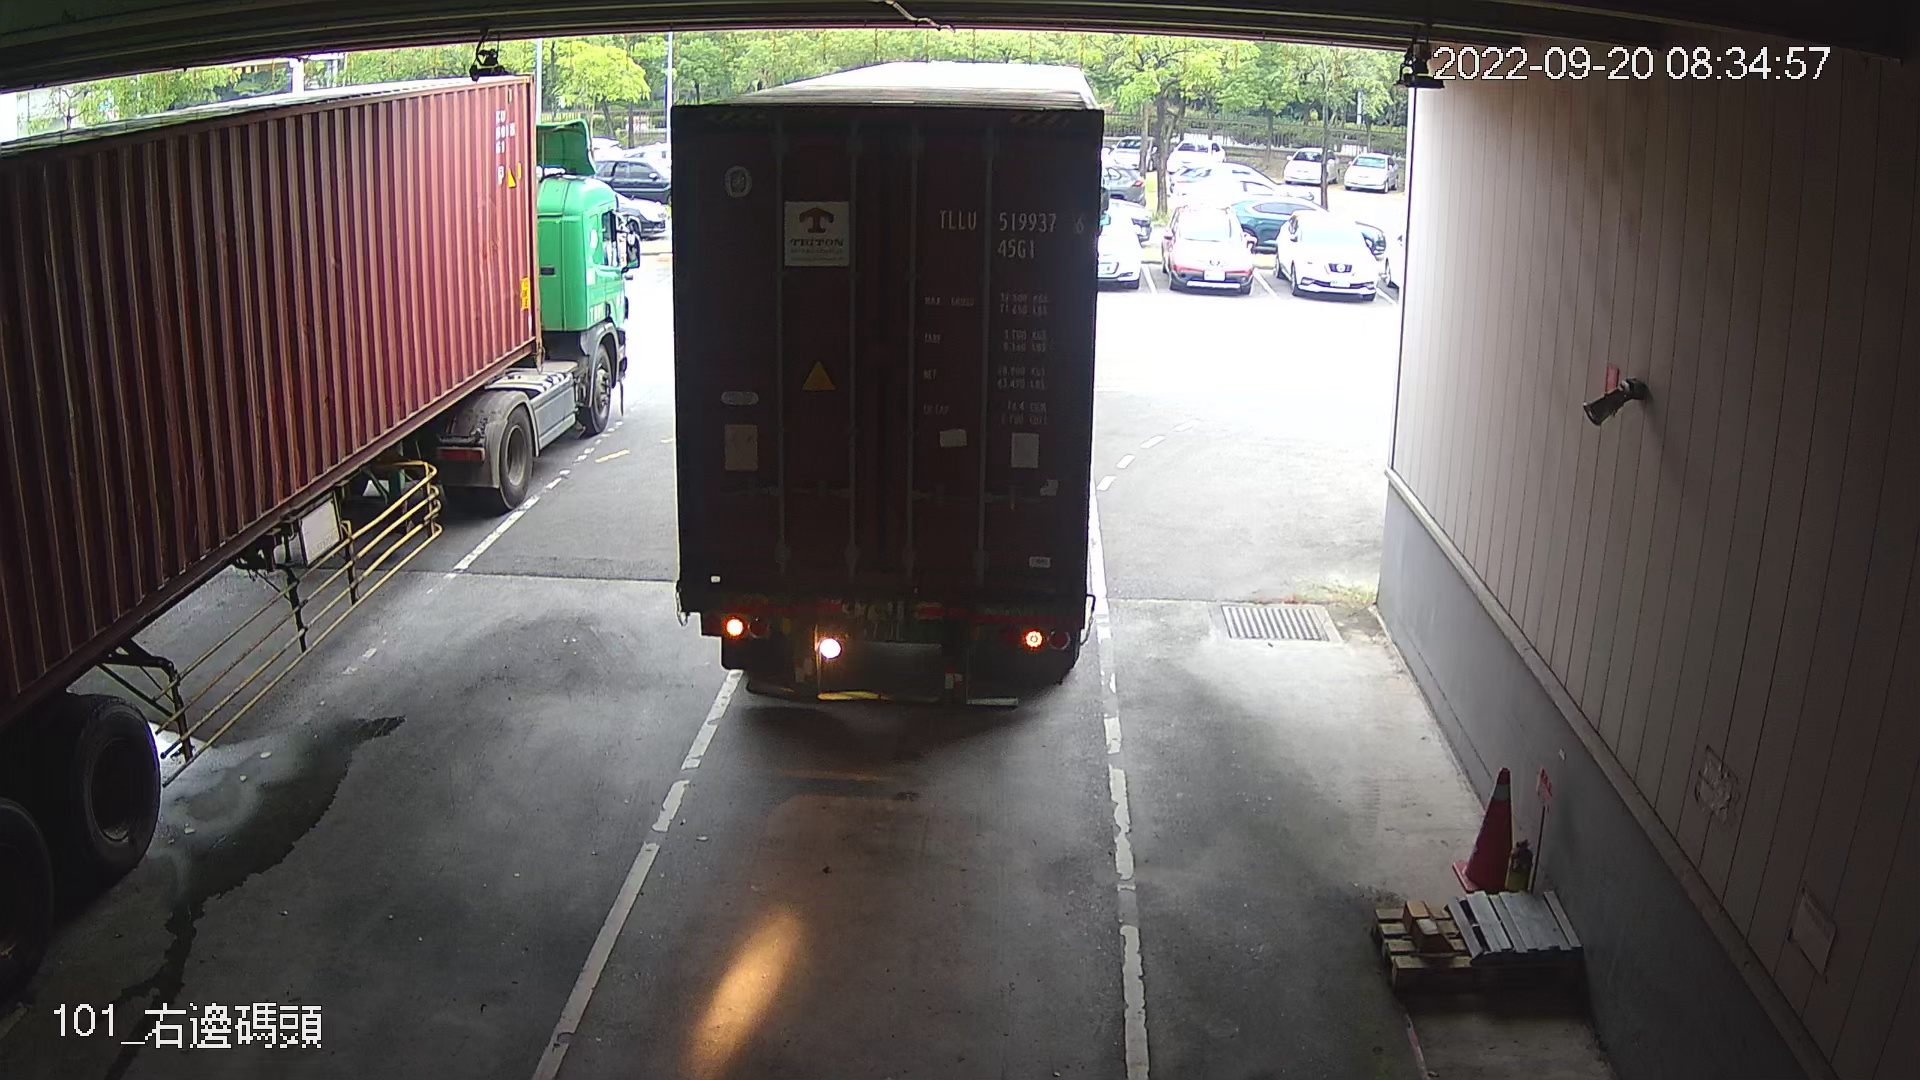container: (928, 199, 1092, 262)
